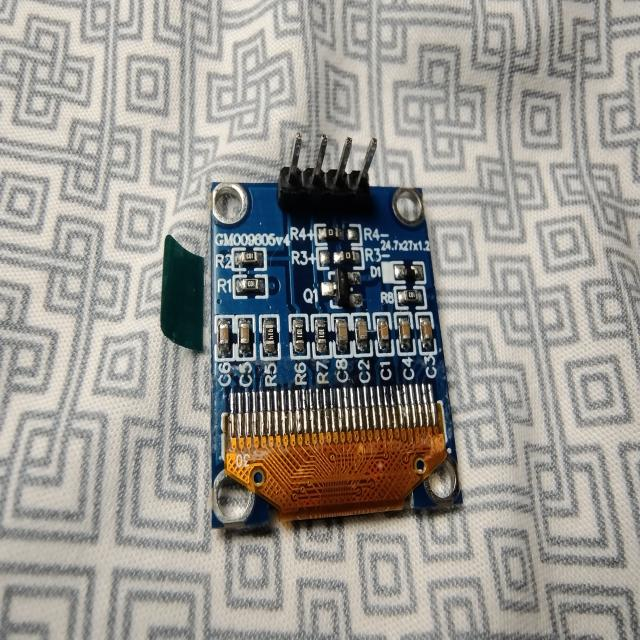oled: (162, 125, 473, 539)
